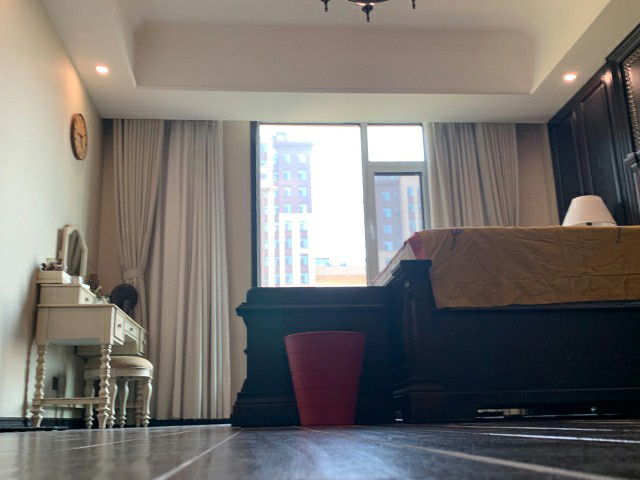bed: (370, 225, 640, 424)
curtain: (112, 116, 232, 421)
stool: (230, 285, 398, 429), (82, 354, 154, 430)
table: (30, 222, 149, 431)
trashcan: (283, 329, 368, 428)
